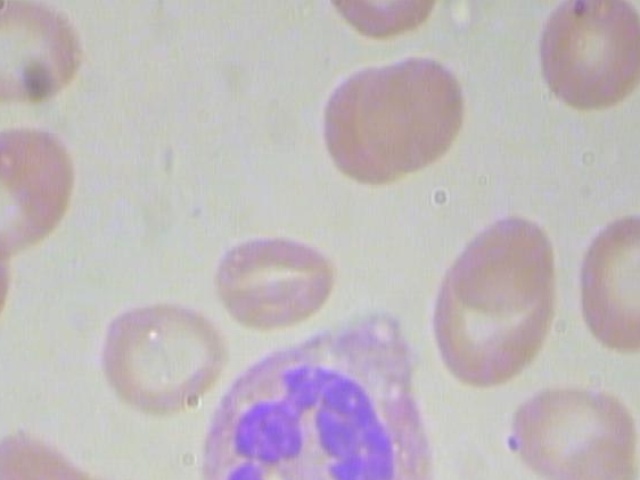RBC: (200, 212, 339, 334), (88, 299, 227, 421), (506, 371, 640, 480), (529, 0, 640, 126), (354, 49, 465, 175), (0, 115, 86, 264), (563, 204, 640, 358), (453, 199, 553, 315), (0, 0, 86, 110)
WBC: (196, 297, 438, 480)
